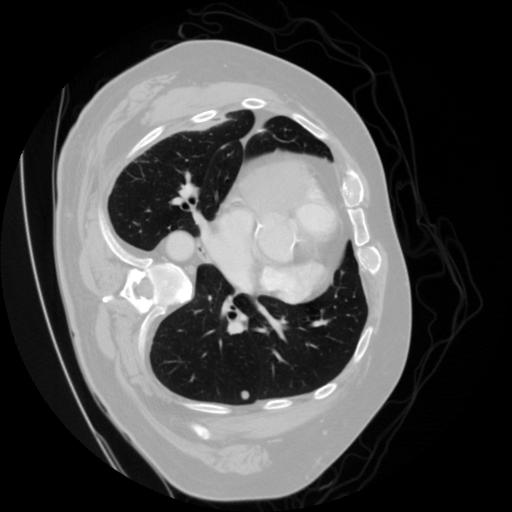nodule: (238, 389, 255, 406)
